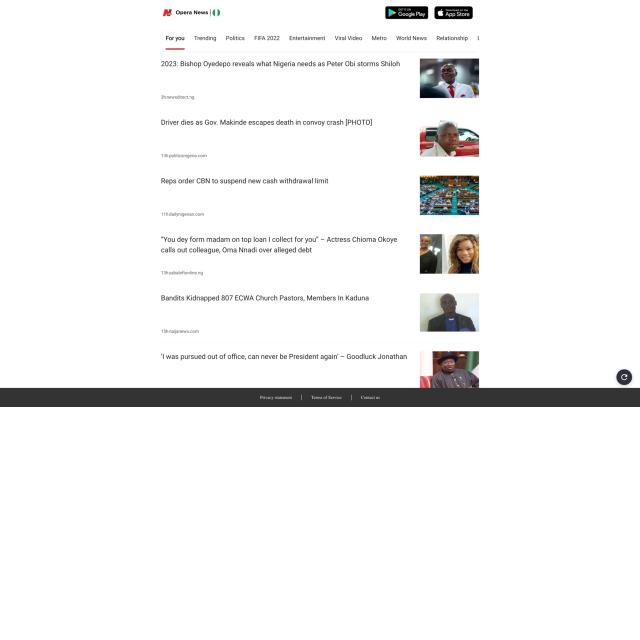footer: (0, 387, 640, 407)
logo: (159, 5, 223, 19)
navigation: (164, 33, 481, 53)
